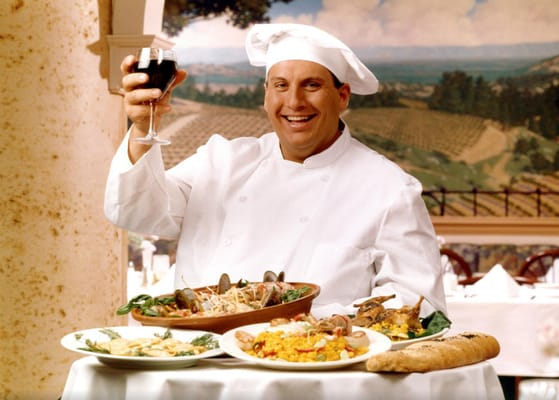sandwich: (365, 329, 502, 374), (351, 293, 428, 340)
